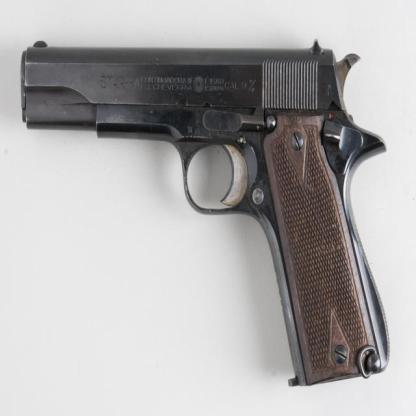weapon: (18, 37, 390, 387)
